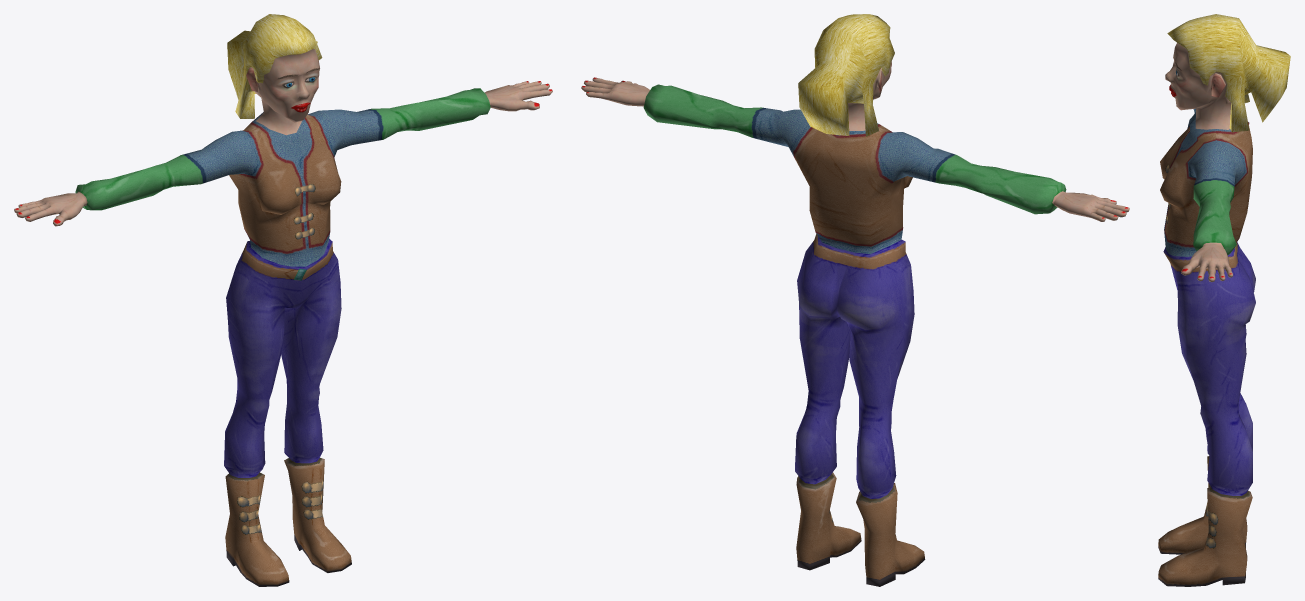
The model's file is sarah.obj.
The picture shows the model from 3 angles, left to right: view 1: azimuth 30°, elevation 25°; view 2: azimuth 150°, elevation 25°; view 3: azimuth 270°, elevation 25°; orthographic projection.
Visible parts, largest first — view 1: Default; view 2: Default; view 3: Default.
Part boxes in pixels (x1,y1,x2,y2): Default: (14, 14, 552, 586); Default: (581, 14, 1129, 586); Default: (1158, 14, 1290, 586).
Bounding box in the file's own units: 10 × 9.65 × 2.13.
Materials: 1 (1 with a texture image).
